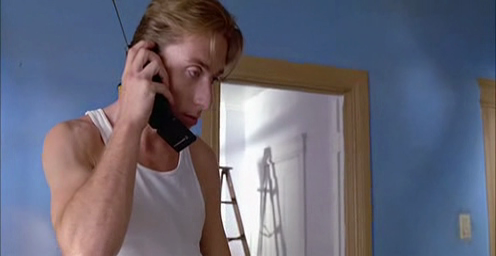face: (165, 45, 228, 129)
mcu: (1, 1, 496, 256)
person: (41, 1, 244, 256)
